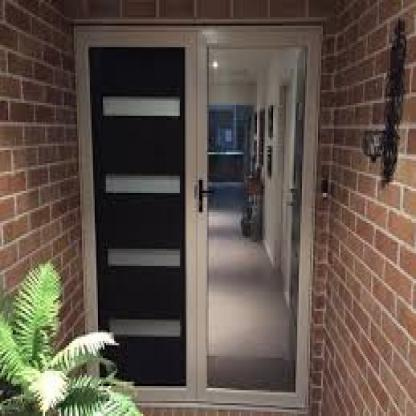door: (80, 32, 305, 412)
